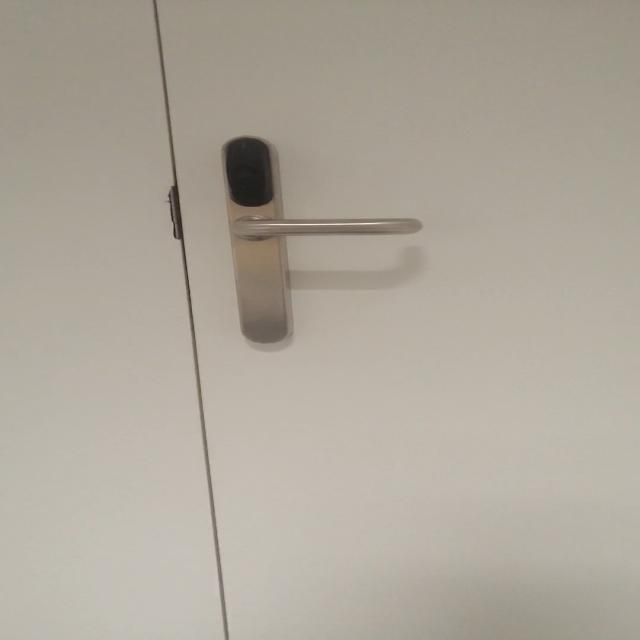door_handle: (217, 208, 442, 247)
